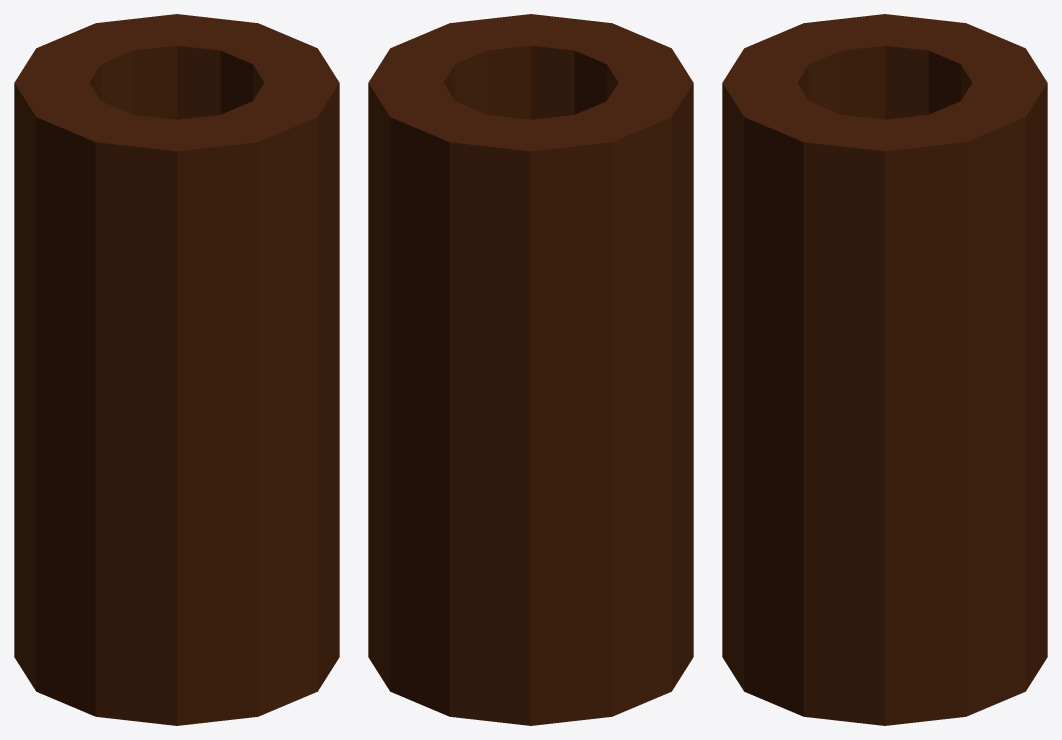
The model's file is ArrowHolder.fbx.
The picture shows the model from 3 angles, left to right: view 1: azimuth 30°, elevation 25°; view 2: azimuth 150°, elevation 25°; view 3: azimuth 270°, elevation 25°; orthographic projection.
Visible parts, largest first — view 1: ArrowHolder; view 2: ArrowHolder; view 3: ArrowHolder.
Part boxes in pixels (x1=…): ArrowHolder: x1=14, y1=14, x2=339, y2=725; ArrowHolder: x1=368, y1=14, x2=693, y2=725; ArrowHolder: x1=722, y1=14, x2=1047, y2=725.
Size of the model in its own units: 348 by 679 by 348.
